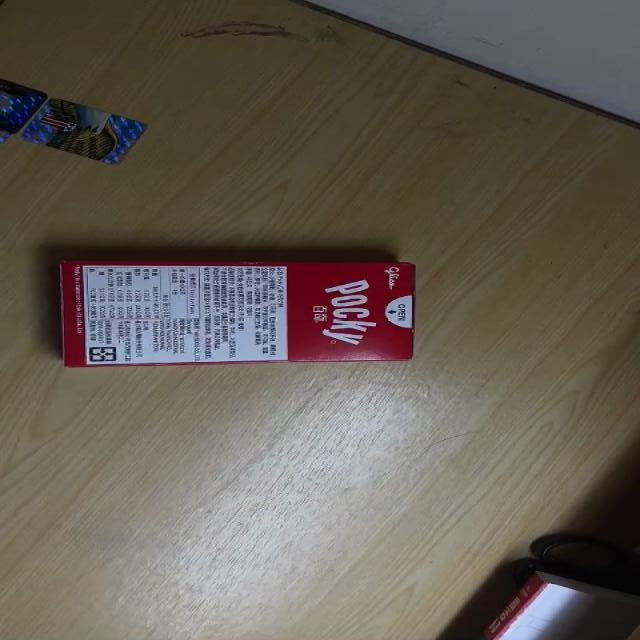Pocky: (61, 262, 416, 367)
